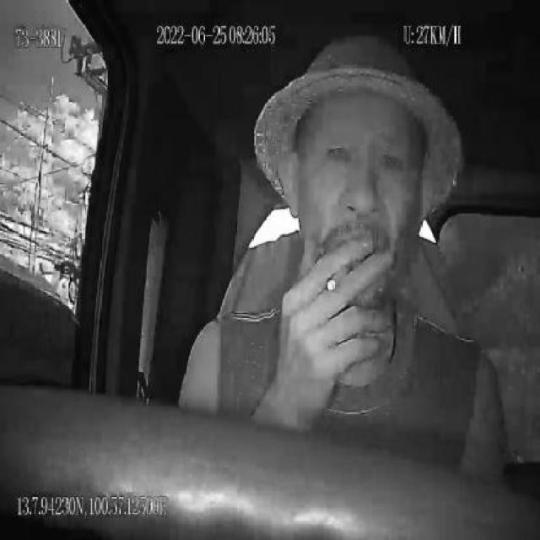smoking: (327, 256, 351, 296)
